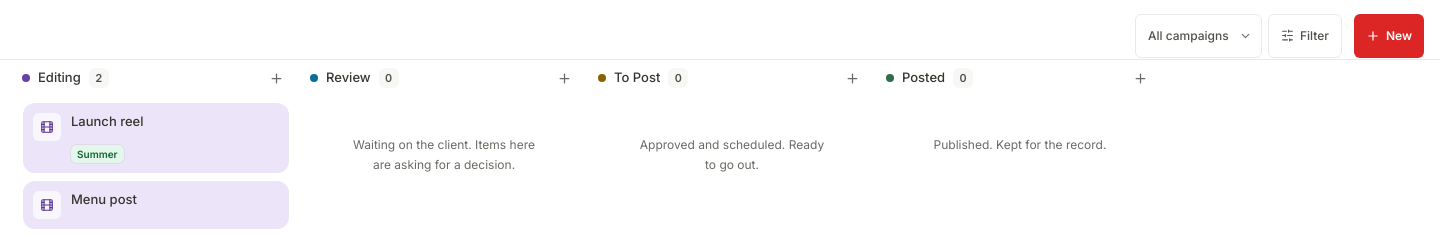
ContentBoard › can show only the content outside every campaign
Select "No campaign" in the dropdown named "Campaign" at (1198, 36), box 1135,14 -> 1262,58
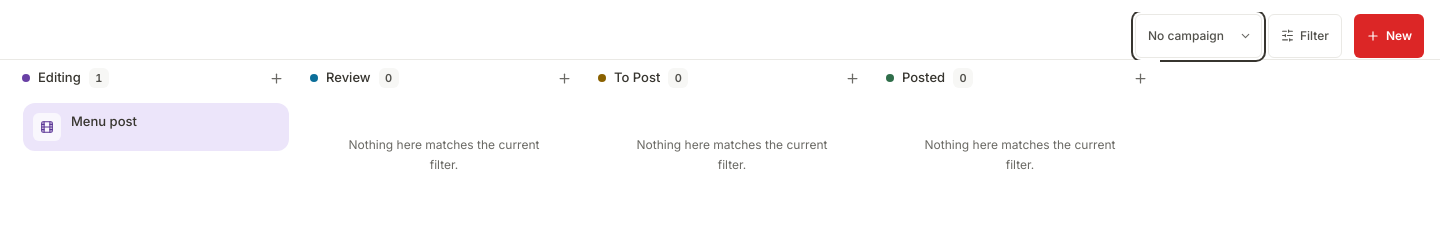
Check: the text "Menu post" is shown, box 71,113 -> 137,129
Check: the button "Launch reel" is gone
